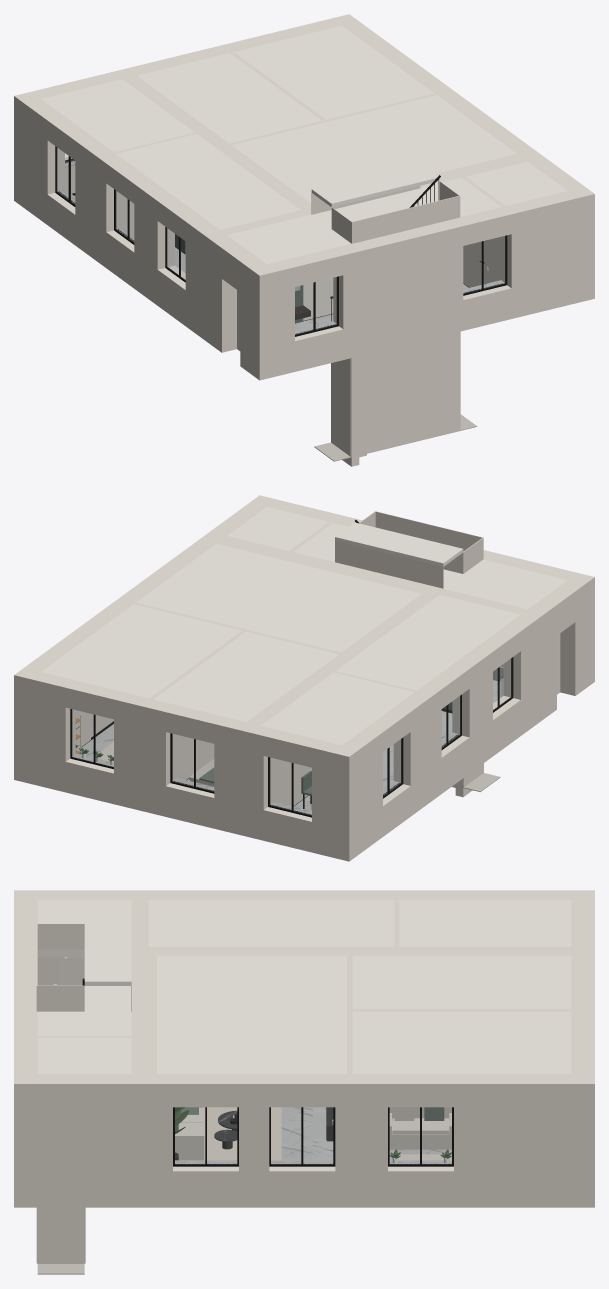
Rendered from scene_alt.glb.
3 renders of one model, top to bottom at view 1: azimuth 30°, elevation 25°; view 2: azimuth 150°, elevation 25°; view 3: azimuth 270°, elevation 25°, orthographic. The views are drawn at different scales.
Size of what is drawn, in the model's own units: 9.71 by 6.94 by 12.33.
54 materials, 24 textured.
